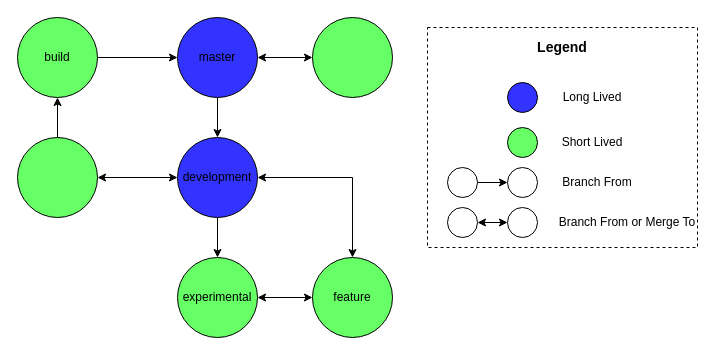
Image size: 715x355. Some labels were removed from this diagram. The centre of each missing label's shape, as x and y in pixels:
"acceptance" belongs at (57,177).
"hotFix" belongs at (352,57).
